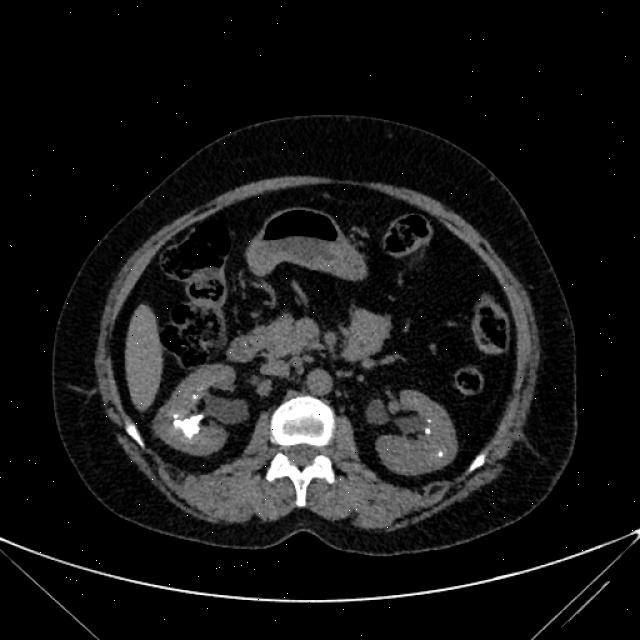kidneystone: (174, 414, 202, 438)
